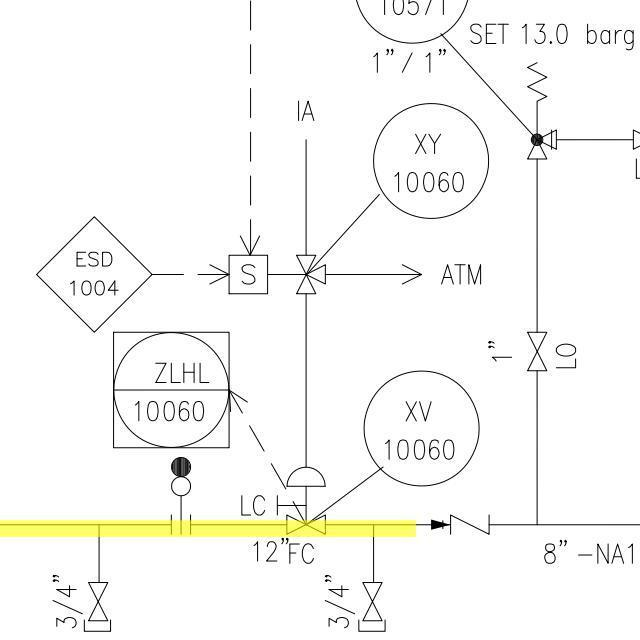3W: (292, 249, 329, 301)
EC: (355, 537, 394, 637), (79, 545, 116, 636)
FC: (280, 455, 332, 539)
GV: (526, 326, 551, 378), (362, 573, 383, 626), (87, 577, 108, 628)
RPV: (522, 55, 564, 172)
SV: (221, 250, 318, 302)
